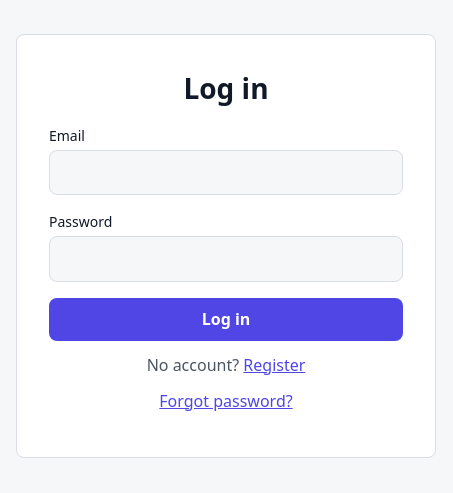
LoginPage › shows a generic message for non-API errors
Type "a@b.com" into the field labelled "Email". click: (226, 173)
box: left=49, top=150, right=403, bottom=195
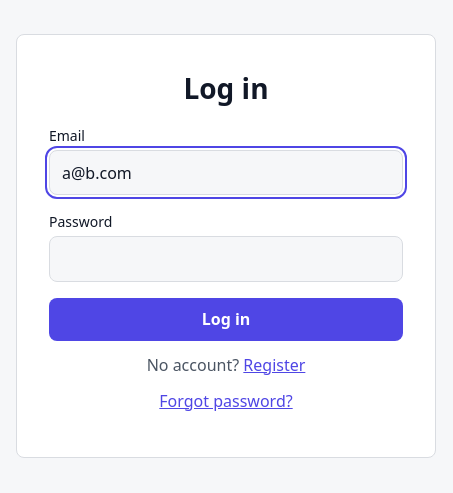
Type "password123" into the password field labelled "Password". click: (226, 259)
box: left=49, top=236, right=403, bottom=282
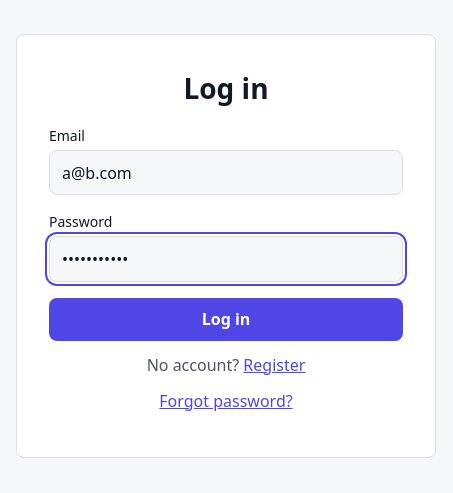
Click the button "Log in". click: (226, 319)
box: left=49, top=298, right=403, bottom=341
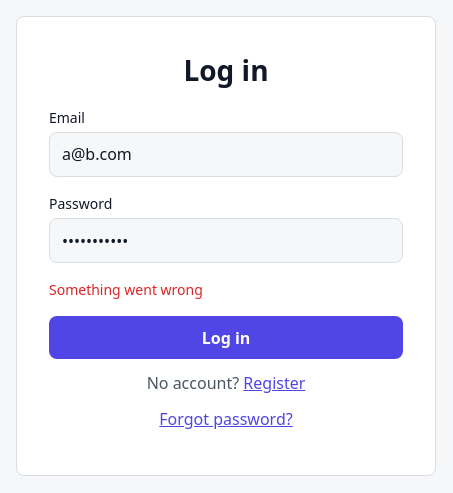
Expected: the message reads "Something went wrong", left=49, top=280, right=203, bottom=299
